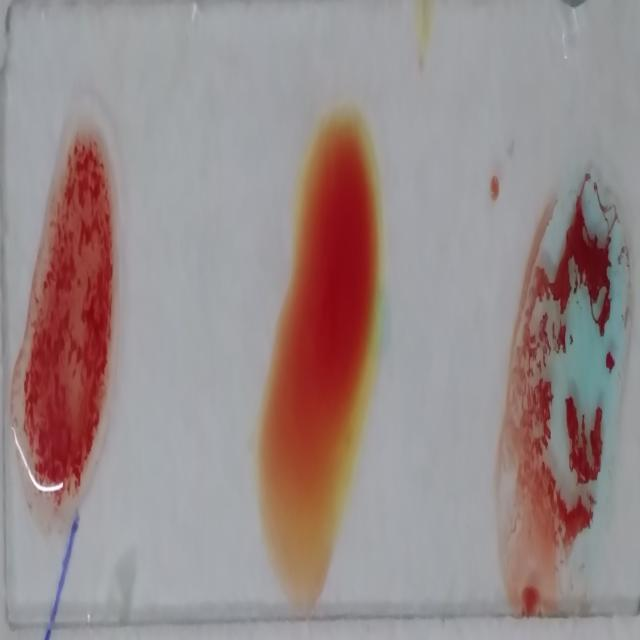A: (493, 164, 631, 606)
D: (15, 126, 118, 502)
